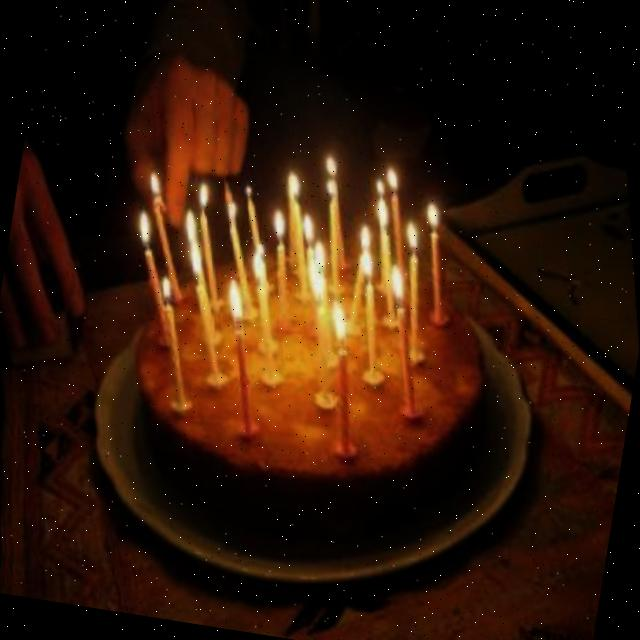fire: (287, 200, 342, 297), (165, 196, 219, 290), (215, 256, 253, 328), (346, 214, 386, 280), (360, 166, 399, 230), (320, 282, 360, 343), (313, 139, 348, 198), (241, 232, 275, 285), (276, 150, 311, 201), (128, 200, 159, 247), (382, 247, 411, 297), (396, 203, 424, 253), (149, 260, 178, 307), (188, 165, 216, 208), (138, 157, 166, 199), (378, 148, 406, 187), (416, 184, 443, 223), (265, 197, 288, 235), (235, 166, 258, 202)
